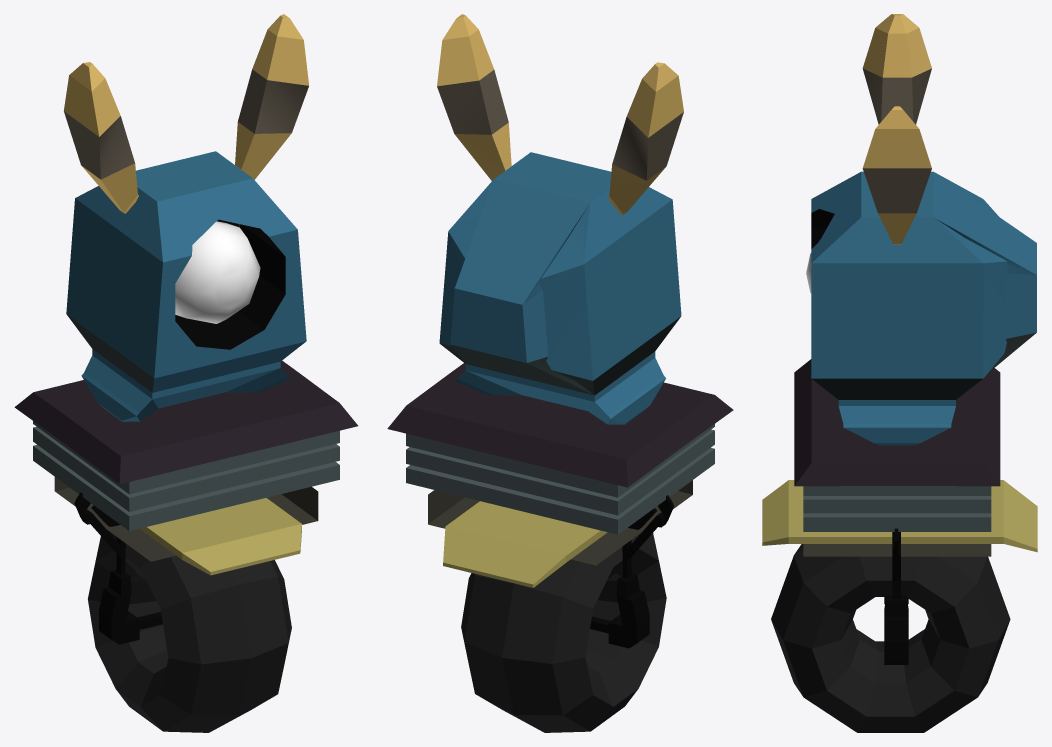
The model's file is robot_model.gltf.glb.
3 renders of one model, left to right at view 1: azimuth 30°, elevation 25°; view 2: azimuth 150°, elevation 25°; view 3: azimuth 270°, elevation 25°, orthographic. The views are drawn at different scales.
Parts seen in each view (by area): view 1: robot; view 2: robot; view 3: robot.
Boxes of the visible parts, x1=… form: robot: x1=14, y1=14, x2=357, y2=732; robot: x1=387, y1=14, x2=733, y2=732; robot: x1=762, y1=14, x2=1037, y2=732.
Size of the model in its own units: 1.18 by 3.19 by 1.2.
Materials: 1 (1 with a texture image).
